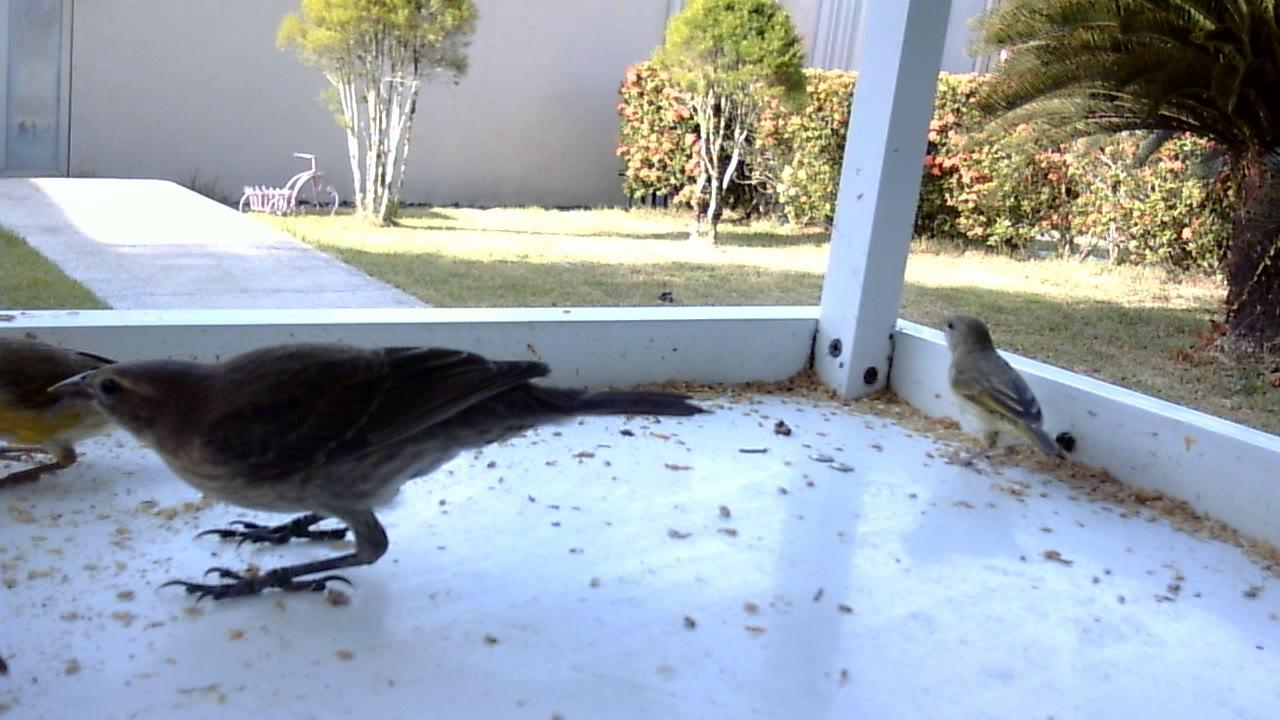canario_do_amazonas: (932, 310, 1071, 476), (1, 333, 130, 496)
chupim: (43, 338, 723, 612)
